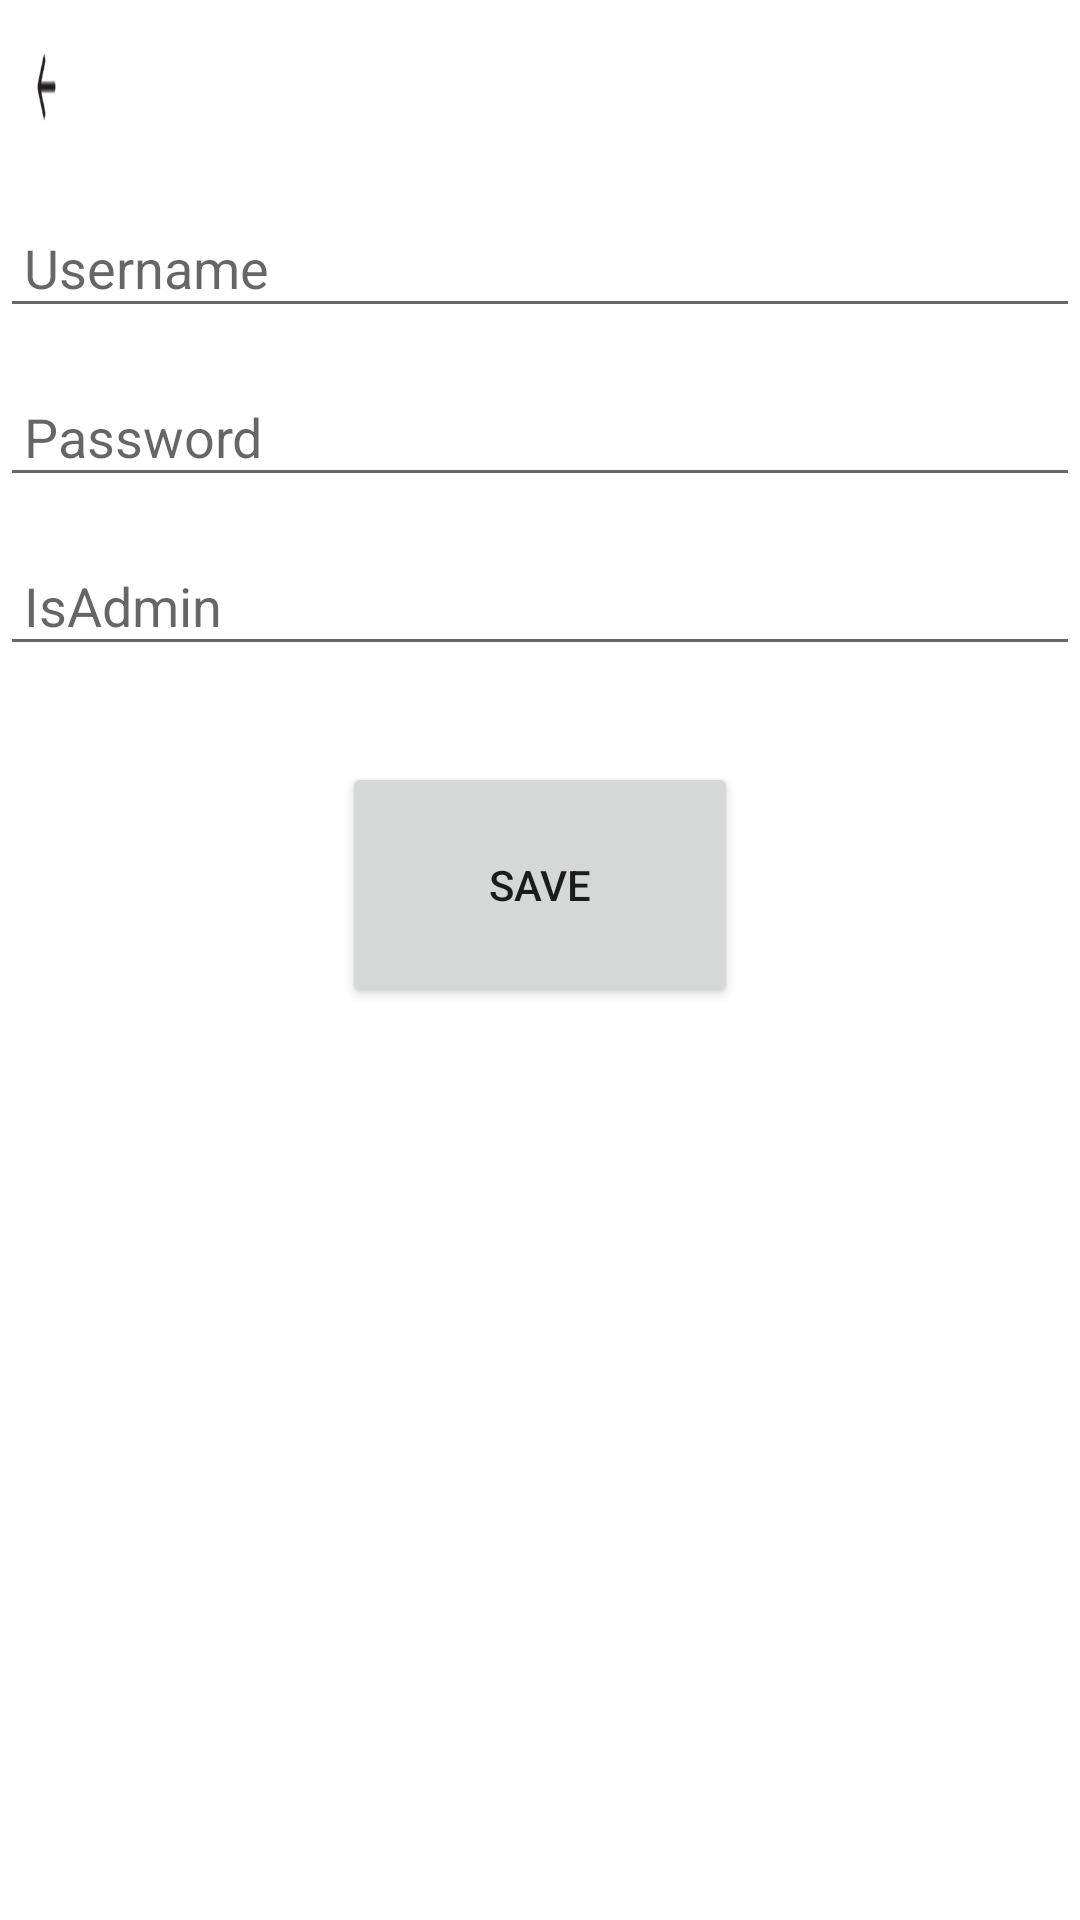

Icons on this 1080px x 1920px Android screen, each with its box as (x1, y1, x2, y2):
back: (37, 54, 56, 120)
